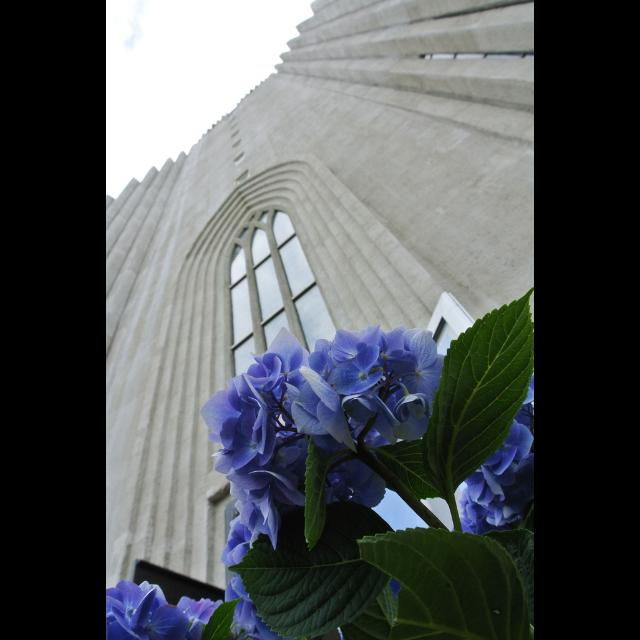Flower: (106, 477, 292, 639), (255, 321, 451, 467)
